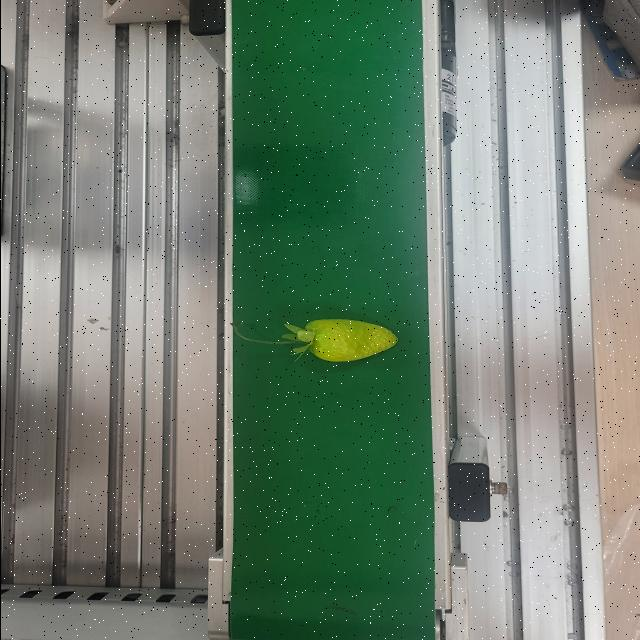Small Unripe Strawberry: (229, 315, 403, 365)
